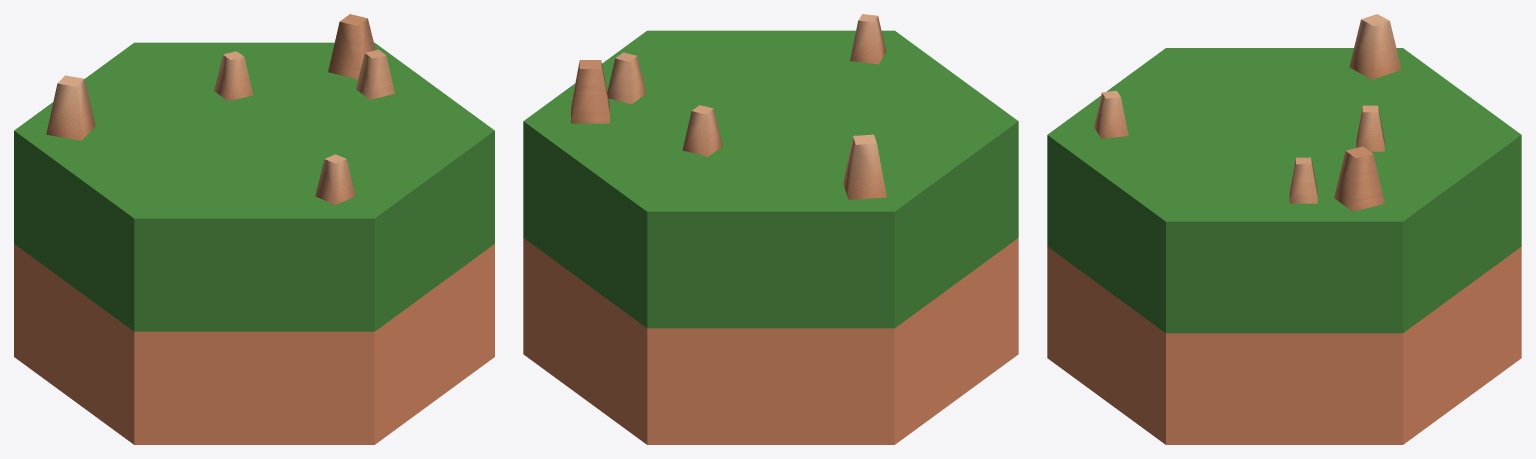
File: flat_scrubland.glb
3 renders of one model, left to right at view 1: azimuth 30°, elevation 25°; view 2: azimuth 150°, elevation 25°; view 3: azimuth 270°, elevation 25°, orthographic. The views are drawn at different scales.
Visible parts, largest first — view 1: sand-rocks; view 2: sand-rocks; view 3: sand-rocks.
Part boxes in pixels (bbox=[...]): sand-rocks: bbox=[14, 14, 494, 444]; sand-rocks: bbox=[523, 14, 1018, 444]; sand-rocks: bbox=[1047, 14, 1521, 444].
Bounding box in the file's own units: 1 × 0.7305 × 1.15.
Materials: 1 (1 with a texture image).
